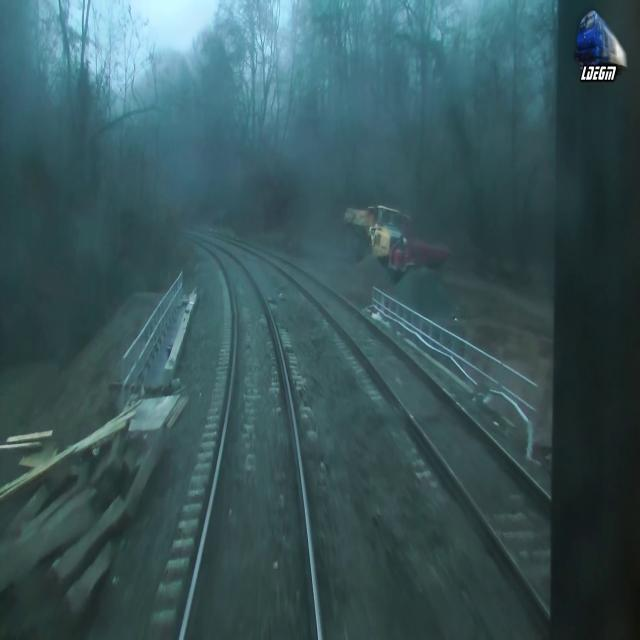rail-track: (201, 229, 620, 639), (183, 232, 317, 639)
